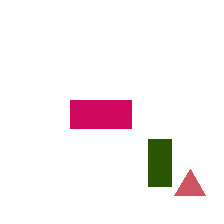rectangle: (70, 100, 131, 128), (148, 139, 171, 186)
triangle: (174, 169, 205, 195)
